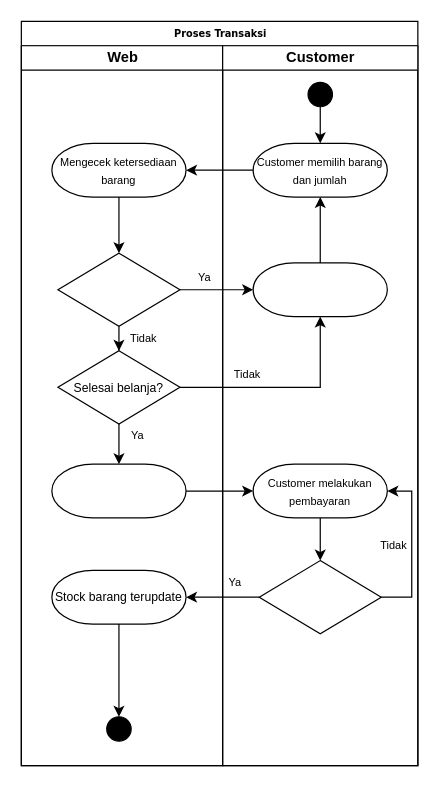
Image size: 443x787. Some labels were removed from this diagram. Here are the shapes that lost their labels. From the top down, the centre of each, then its label:
At (118,289): "Barang habis?".
At (319,289): "Pilih barang lainnya".
At (118,490): "Menghitung jumlah barang dan harga".
At (319,596): "Pembayaran berhasil?".
